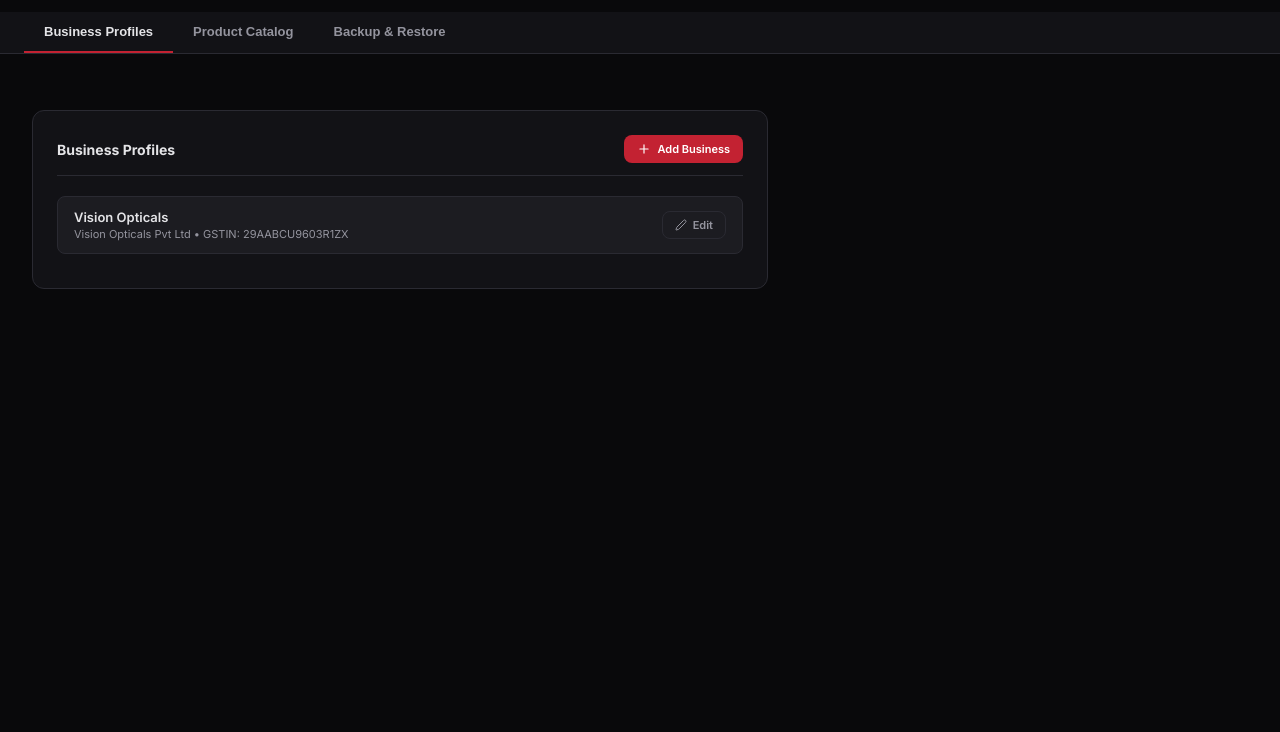
Test case: SettingsScreen — Catalog CRUD › SC4: Clicking the edit icon pre-populates the form with the product name
Click the button "Product Catalog". click: (243, 32)
box: [173, 12, 314, 53]
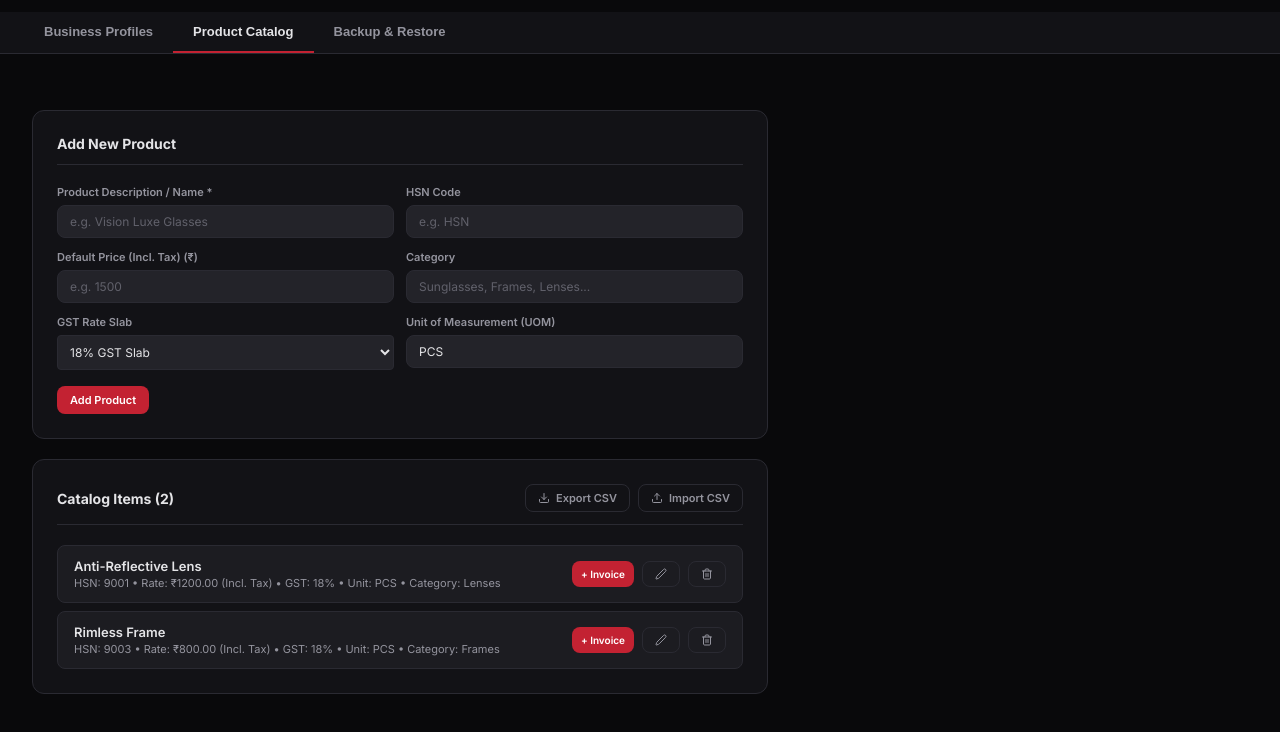
Now the 3rd button with class "btn-ghost" is shown
Click the 3rd button with class "btn-ghost". click: (661, 574)
box: [642, 561, 680, 587]
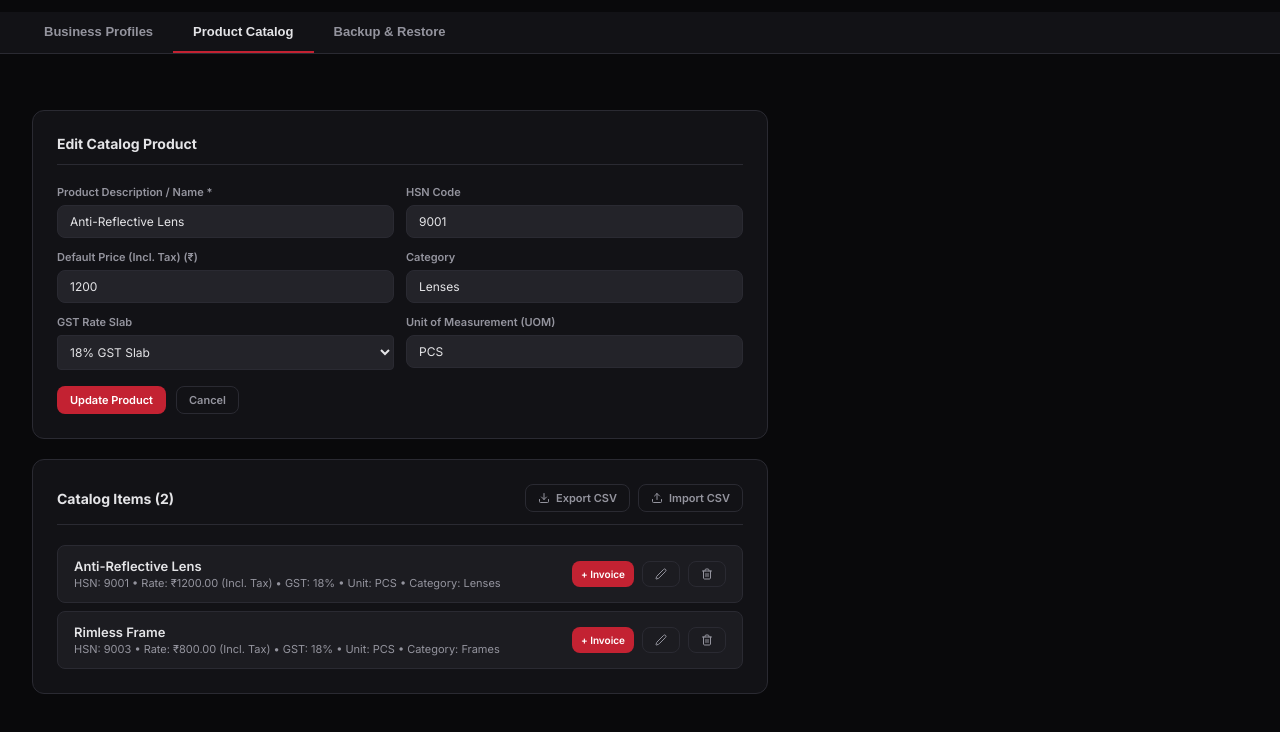
Now the field with placeholder "e.g. Vision Luxe Glasses" below "Product Description / Name *" holds "Anti-Reflective Lens", box [57, 205, 394, 238]
